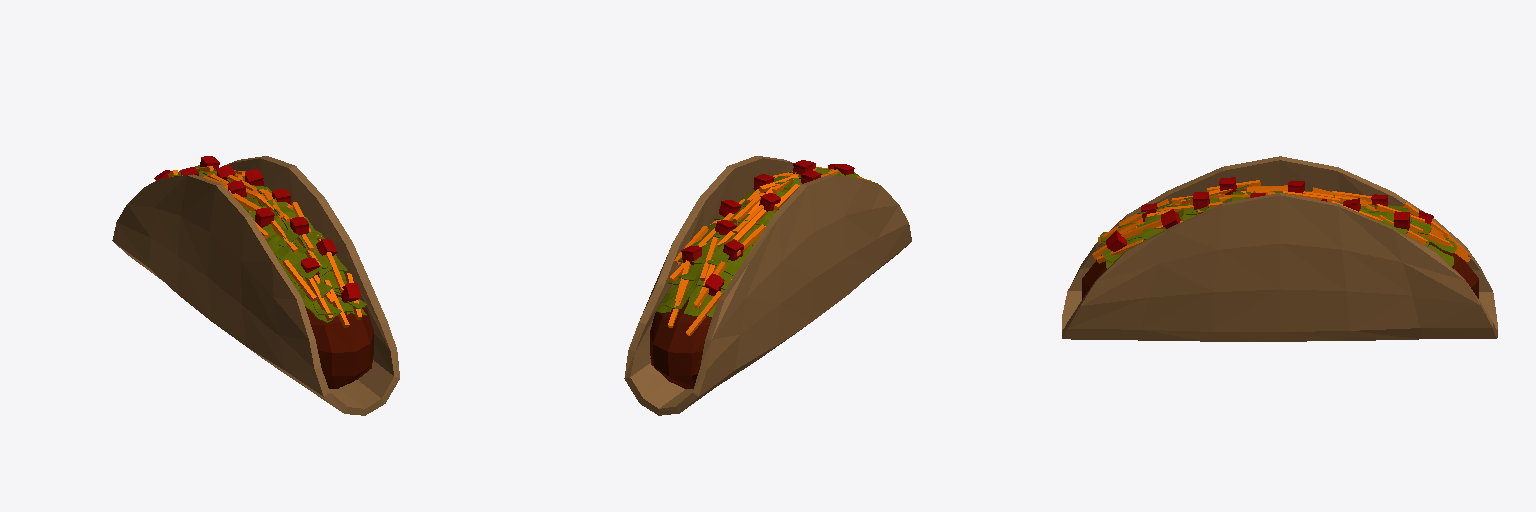
File: taco.obj
The picture shows the model from 3 angles: view 1: azimuth 30°, elevation 25°; view 2: azimuth 150°, elevation 25°; view 3: azimuth 270°, elevation 25°; orthographic projection.
Bounding box in the file's own units: 0.4296 × 0.6899 × 1.7.